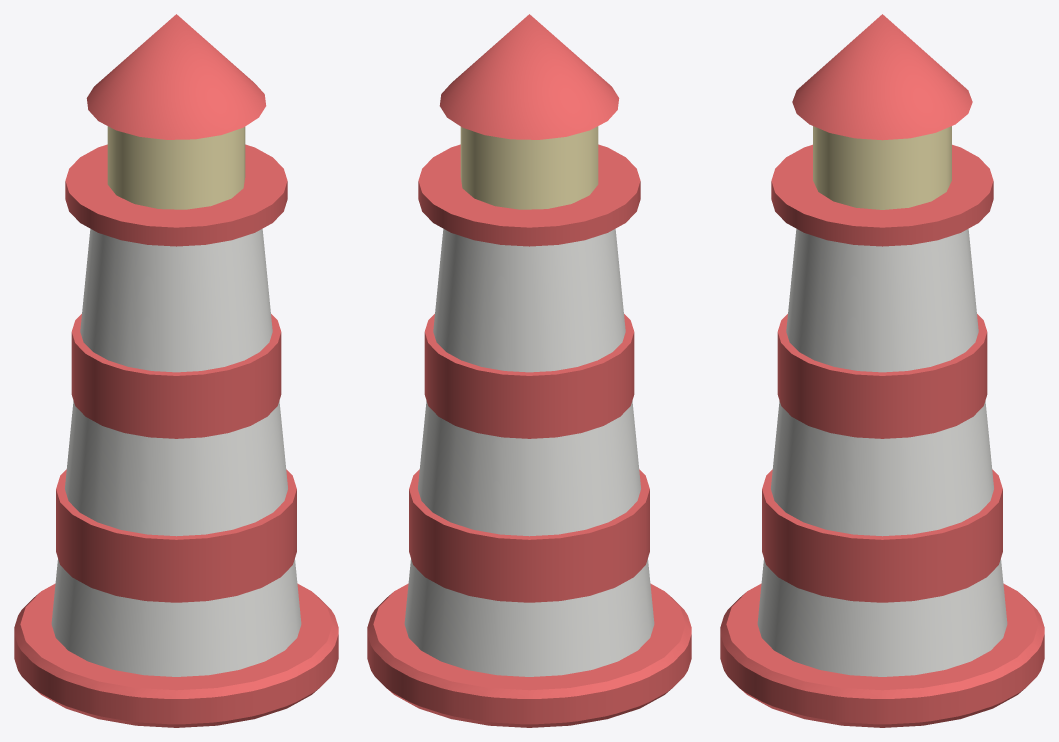
Rendered from Lighthouse.fbx.
3 views of the same model, side by side, from view 1: azimuth 30°, elevation 25°; view 2: azimuth 150°, elevation 25°; view 3: azimuth 270°, elevation 25° (orthographic).
Parts seen in each view (by area): view 1: Trim.007, Body.007, Glow; view 2: Trim.007, Body.007, Glow; view 3: Trim.007, Body.007, Glow.
Boxes of the visible parts, left/top/right/bottom form: Trim.007: left=14, top=14, right=338, bottom=727; Body.007: left=51, top=229, right=301, bottom=676; Glow: left=107, top=126, right=245, bottom=209; Trim.007: left=367, top=14, right=691, bottom=727; Body.007: left=404, top=229, right=654, bottom=676; Glow: left=460, top=126, right=598, bottom=209; Trim.007: left=720, top=14, right=1044, bottom=727; Body.007: left=757, top=229, right=1007, bottom=676; Glow: left=813, top=126, right=951, bottom=209.
Size of the model in its own units: 0.9348 by 2.06 by 0.9348.
